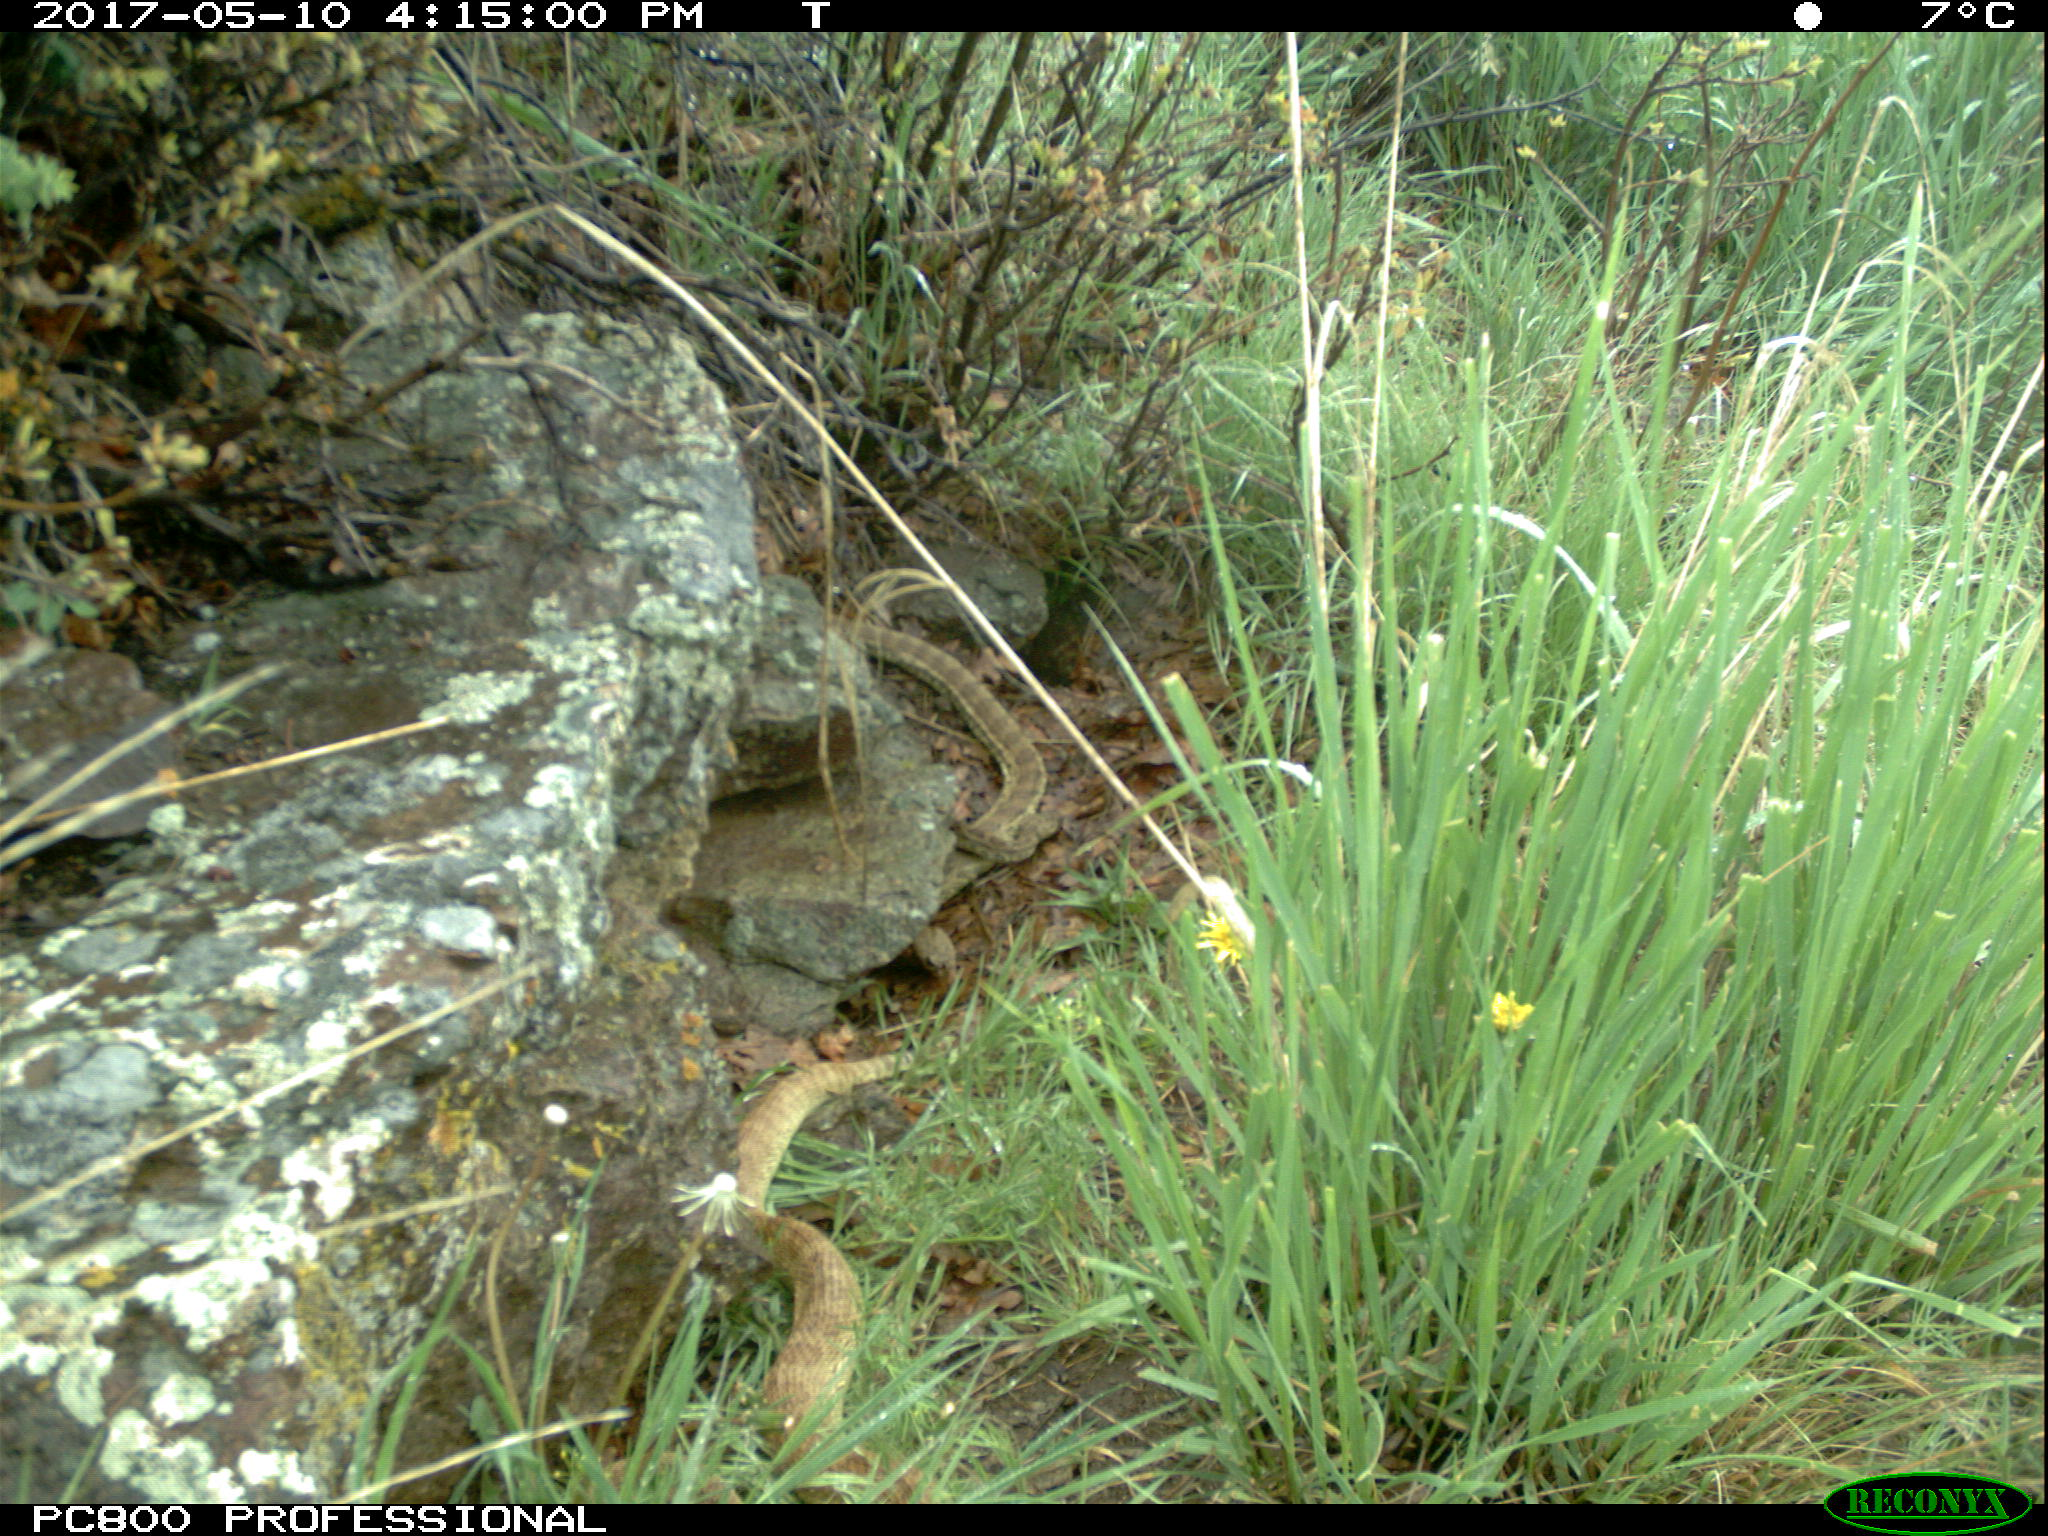snake: (721, 1049, 947, 1502), (850, 616, 1048, 842)
